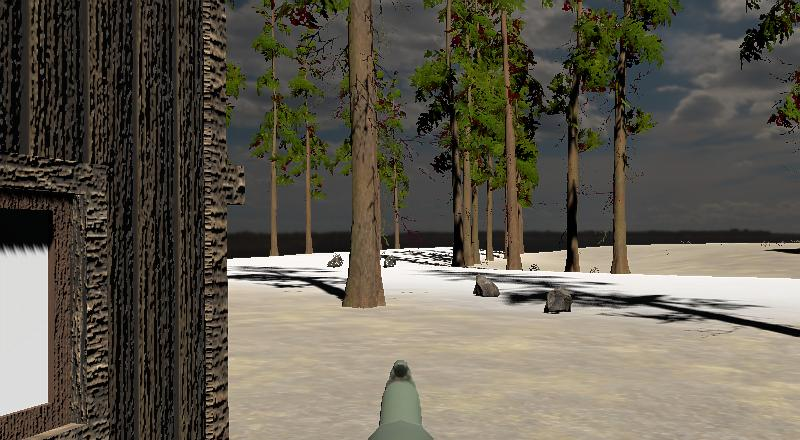House: (0, 0, 248, 440)
